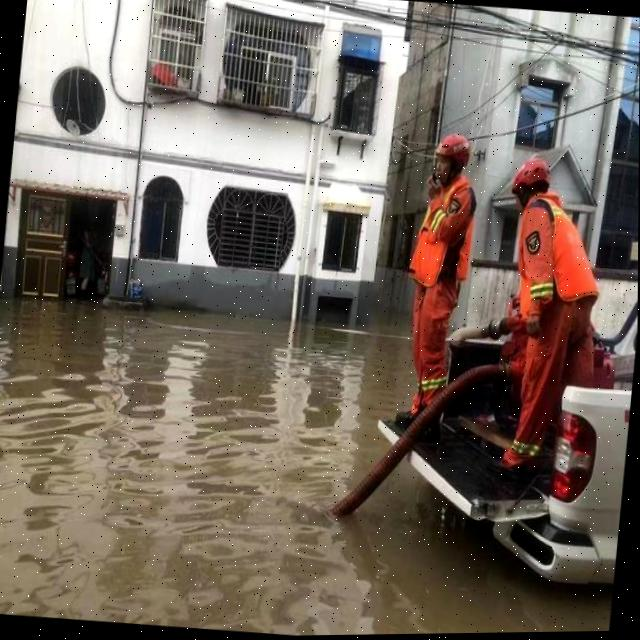rescuer: (476, 137, 610, 479), (391, 124, 494, 448)
